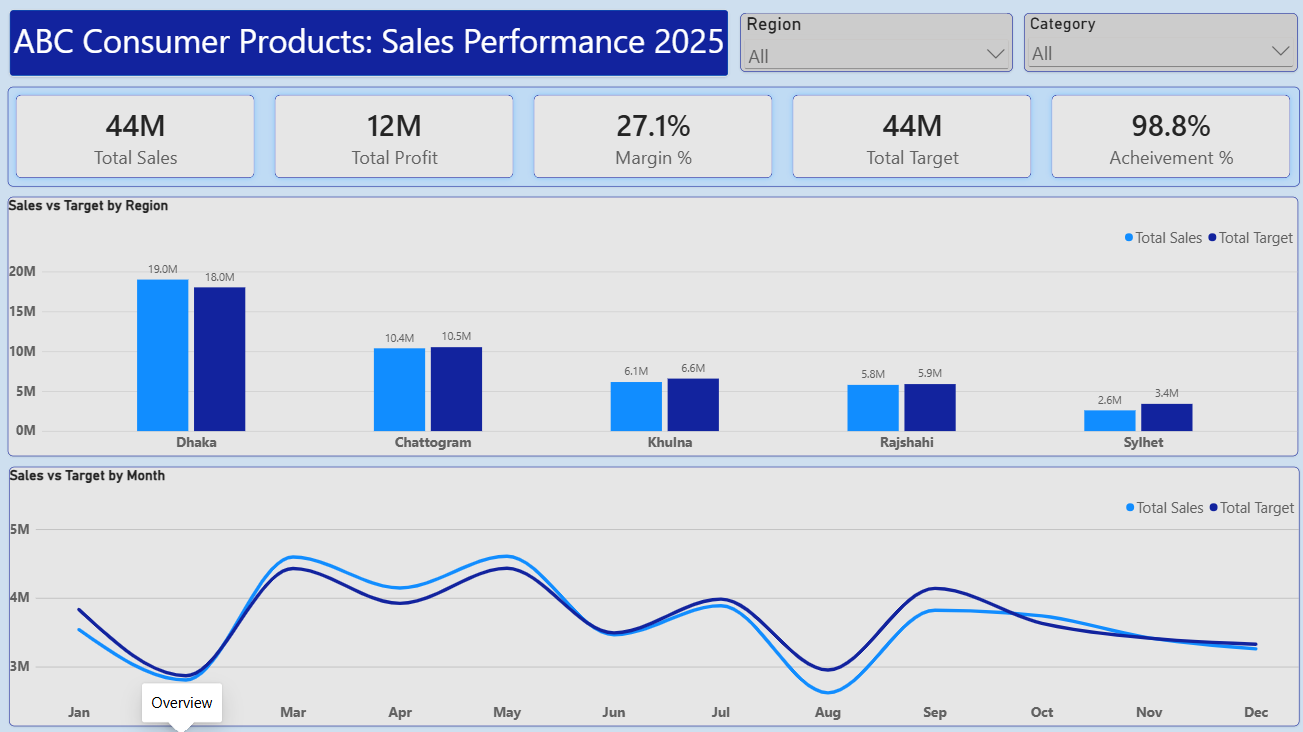

What the dashboard file says about the page in this screenshot:
{"tool":"powerbi","page":{"name":"Overview","canvas":[1920,1080],"ordinal":0},"visuals":[{"type":"shape","box":[14.7,16.5,1056.5,99],"z":0},{"type":"cardVisual","fields":{"Data":["FactSales.Total Sales","FactSales.Total Profit","FactSales.Margin %","FactSales.Total Target","FactSales.Acheivement %"]},"box":[12.3,129.7,1895.7,146.1],"z":1000},{"type":"textbox","box":[14.7,29.3,1056.5,86.2],"z":1500},{"type":"clusteredColumnChart","title":"Sales vs Target by Region","fields":{"Category":["FactSales.Region"],"Y":["FactSales.Total Sales","FactSales.Total Target"]},"box":[12.3,292.3,1893.7,380.8],"z":2000},{"type":"lineChart","title":"Sales vs Target by Month","fields":{"Category":["FactSales.Month_Name"],"Y":["FactSales.Total Sales","FactSales.Total Target"]},"box":[14.4,687.5,1893.7,380.8],"z":3000},{"type":"slicer","fields":{"Values":["FactSales.Region"]},"box":[1087.7,22,399.9,86.2],"z":4000},{"type":"slicer","fields":{"Values":["FactSales.Category"]},"box":[1504.1,22,401.7,86.2],"z":6000}]}

Visuals, with their boxes on the page's 1920x1080 design canvas (x1, y1, x2, y2). These are canvas units, not pixel positions in the 1303x732 screenshot, which may show the page scaled, cropped or inside an application window:
shape: 15 16 1071 116
cardVisual - FactSales.Total Sales x FactSales.Total Profit: 12 130 1908 276
textbox: 15 29 1071 116
"Sales vs Target by Region" clusteredColumnChart: 12 292 1906 673
"Sales vs Target by Month" lineChart: 14 688 1908 1068
slicer - FactSales.Region: 1088 22 1488 108
slicer - FactSales.Category: 1504 22 1906 108
